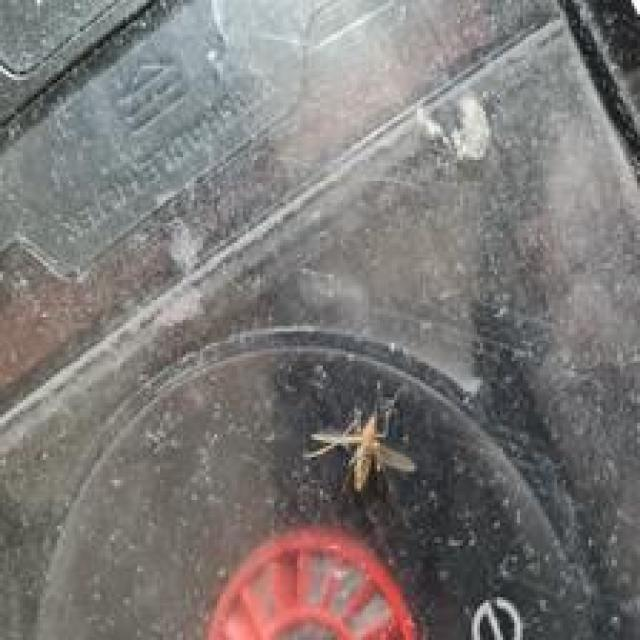Culex: (302, 404, 418, 504)
